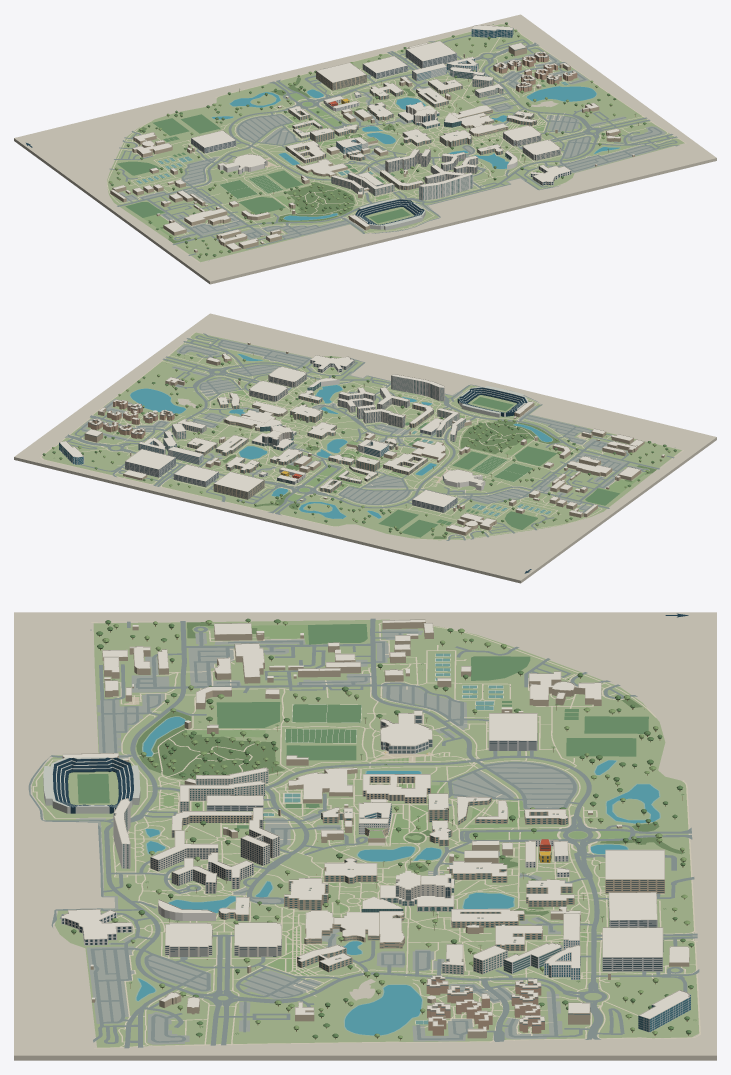
File: fiu-mmc-simple.glb
3 renders of one model, top to bottom at view 1: azimuth 30°, elevation 25°; view 2: azimuth 150°, elevation 25°; view 3: azimuth 270°, elevation 25°, orthographic. The views are drawn at different scales.
Visible parts, largest first — view 1: Campus lawn, Campus base, 03 Roads and parking / road, 04 Paths and plazas / path, 03 Roads and parking / parking, 06 Athletics / field, 02 Landscape and water / water, 02 Landscape and water / preserve, 02 Landscape and water / lawn, Decorative trees / tree, Decorative trees / tree_light, 02 Landscape and water / water_edge (+6 smaller); view 2: Campus lawn, Campus base, 03 Roads and parking / road, 04 Paths and plazas / path, 03 Roads and parking / parking, 06 Athletics / field, 02 Landscape and water / water, 02 Landscape and water / preserve, 02 Landscape and water / lawn, Decorative trees / tree, Decorative trees / tree_light, 02 Landscape and water / water_edge (+8 smaller); view 3: Campus lawn, Campus base, 03 Roads and parking / road, 04 Paths and plazas / path, 03 Roads and parking / parking, 06 Athletics / field, 02 Landscape and water / water, 02 Landscape and water / preserve, 02 Landscape and water / lawn, Decorative trees / tree, Decorative trees / tree_light, 02 Landscape and water / water_edge (+26 smaller).
Boxes of the visible parts, <box> form: Campus lawn: <box>107,24,684,262</box>; Campus base: <box>14,14,716,284</box>; 03 Roads and parking / road: <box>109,34,679,260</box>; 04 Paths and plazas / path: <box>107,23,686,262</box>; 03 Roads and parking / parking: <box>119,53,665,239</box>; 06 Athletics / field: <box>117,84,545,223</box>; 02 Landscape and water / water: <box>212,86,619,220</box>; 02 Landscape and water / preserve: <box>137,77,414,243</box>; 02 Landscape and water / lawn: <box>143,93,546,238</box>; Decorative trees / tree: <box>111,22,646,257</box>; Decorative trees / tree_light: <box>108,29,621,255</box>; 02 Landscape and water / water_edge: <box>211,86,620,220</box>; Campus lawn: <box>42,332,681,540</box>; Campus base: <box>14,313,716,583</box>; 03 Roads and parking / road: <box>65,333,675,540</box>; 04 Paths and plazas / path: <box>40,332,683,539</box>; 03 Roads and parking / parking: <box>80,339,641,514</box>; 06 Athletics / field: <box>148,397,619,537</box>; 02 Landscape and water / water: <box>130,354,552,518</box>; 02 Landscape and water / preserve: <box>222,421,656,538</box>; 02 Landscape and water / lawn: <box>181,390,646,501</box>; Decorative trees / tree: <box>42,352,676,535</box>; Decorative trees / tree_light: <box>52,356,670,536</box>; 02 Landscape and water / water_edge: <box>129,353,552,518</box>; Campus lawn: <box>31,619,699,1047</box>; Campus base: <box>14,612,716,1060</box>; 03 Roads and parking / road: <box>28,618,699,1048</box>; 04 Paths and plazas / path: <box>32,621,700,1048</box>; 03 Roads and parking / parking: <box>62,629,577,1044</box>; 06 Athletics / field: <box>77,624,648,828</box>; 02 Landscape and water / water: <box>136,717,659,1035</box>; 02 Landscape and water / preserve: <box>136,622,684,915</box>; 02 Landscape and water / lawn: <box>160,625,630,975</box>; Decorative trees / tree: <box>71,618,696,1038</box>; Decorative trees / tree_light: <box>102,620,690,1038</box>; 02 Landscape and water / water_edge: <box>135,716,660,1035</box>.
Bounding box in the file's own units: 1654 × 51.9 × 1109.
